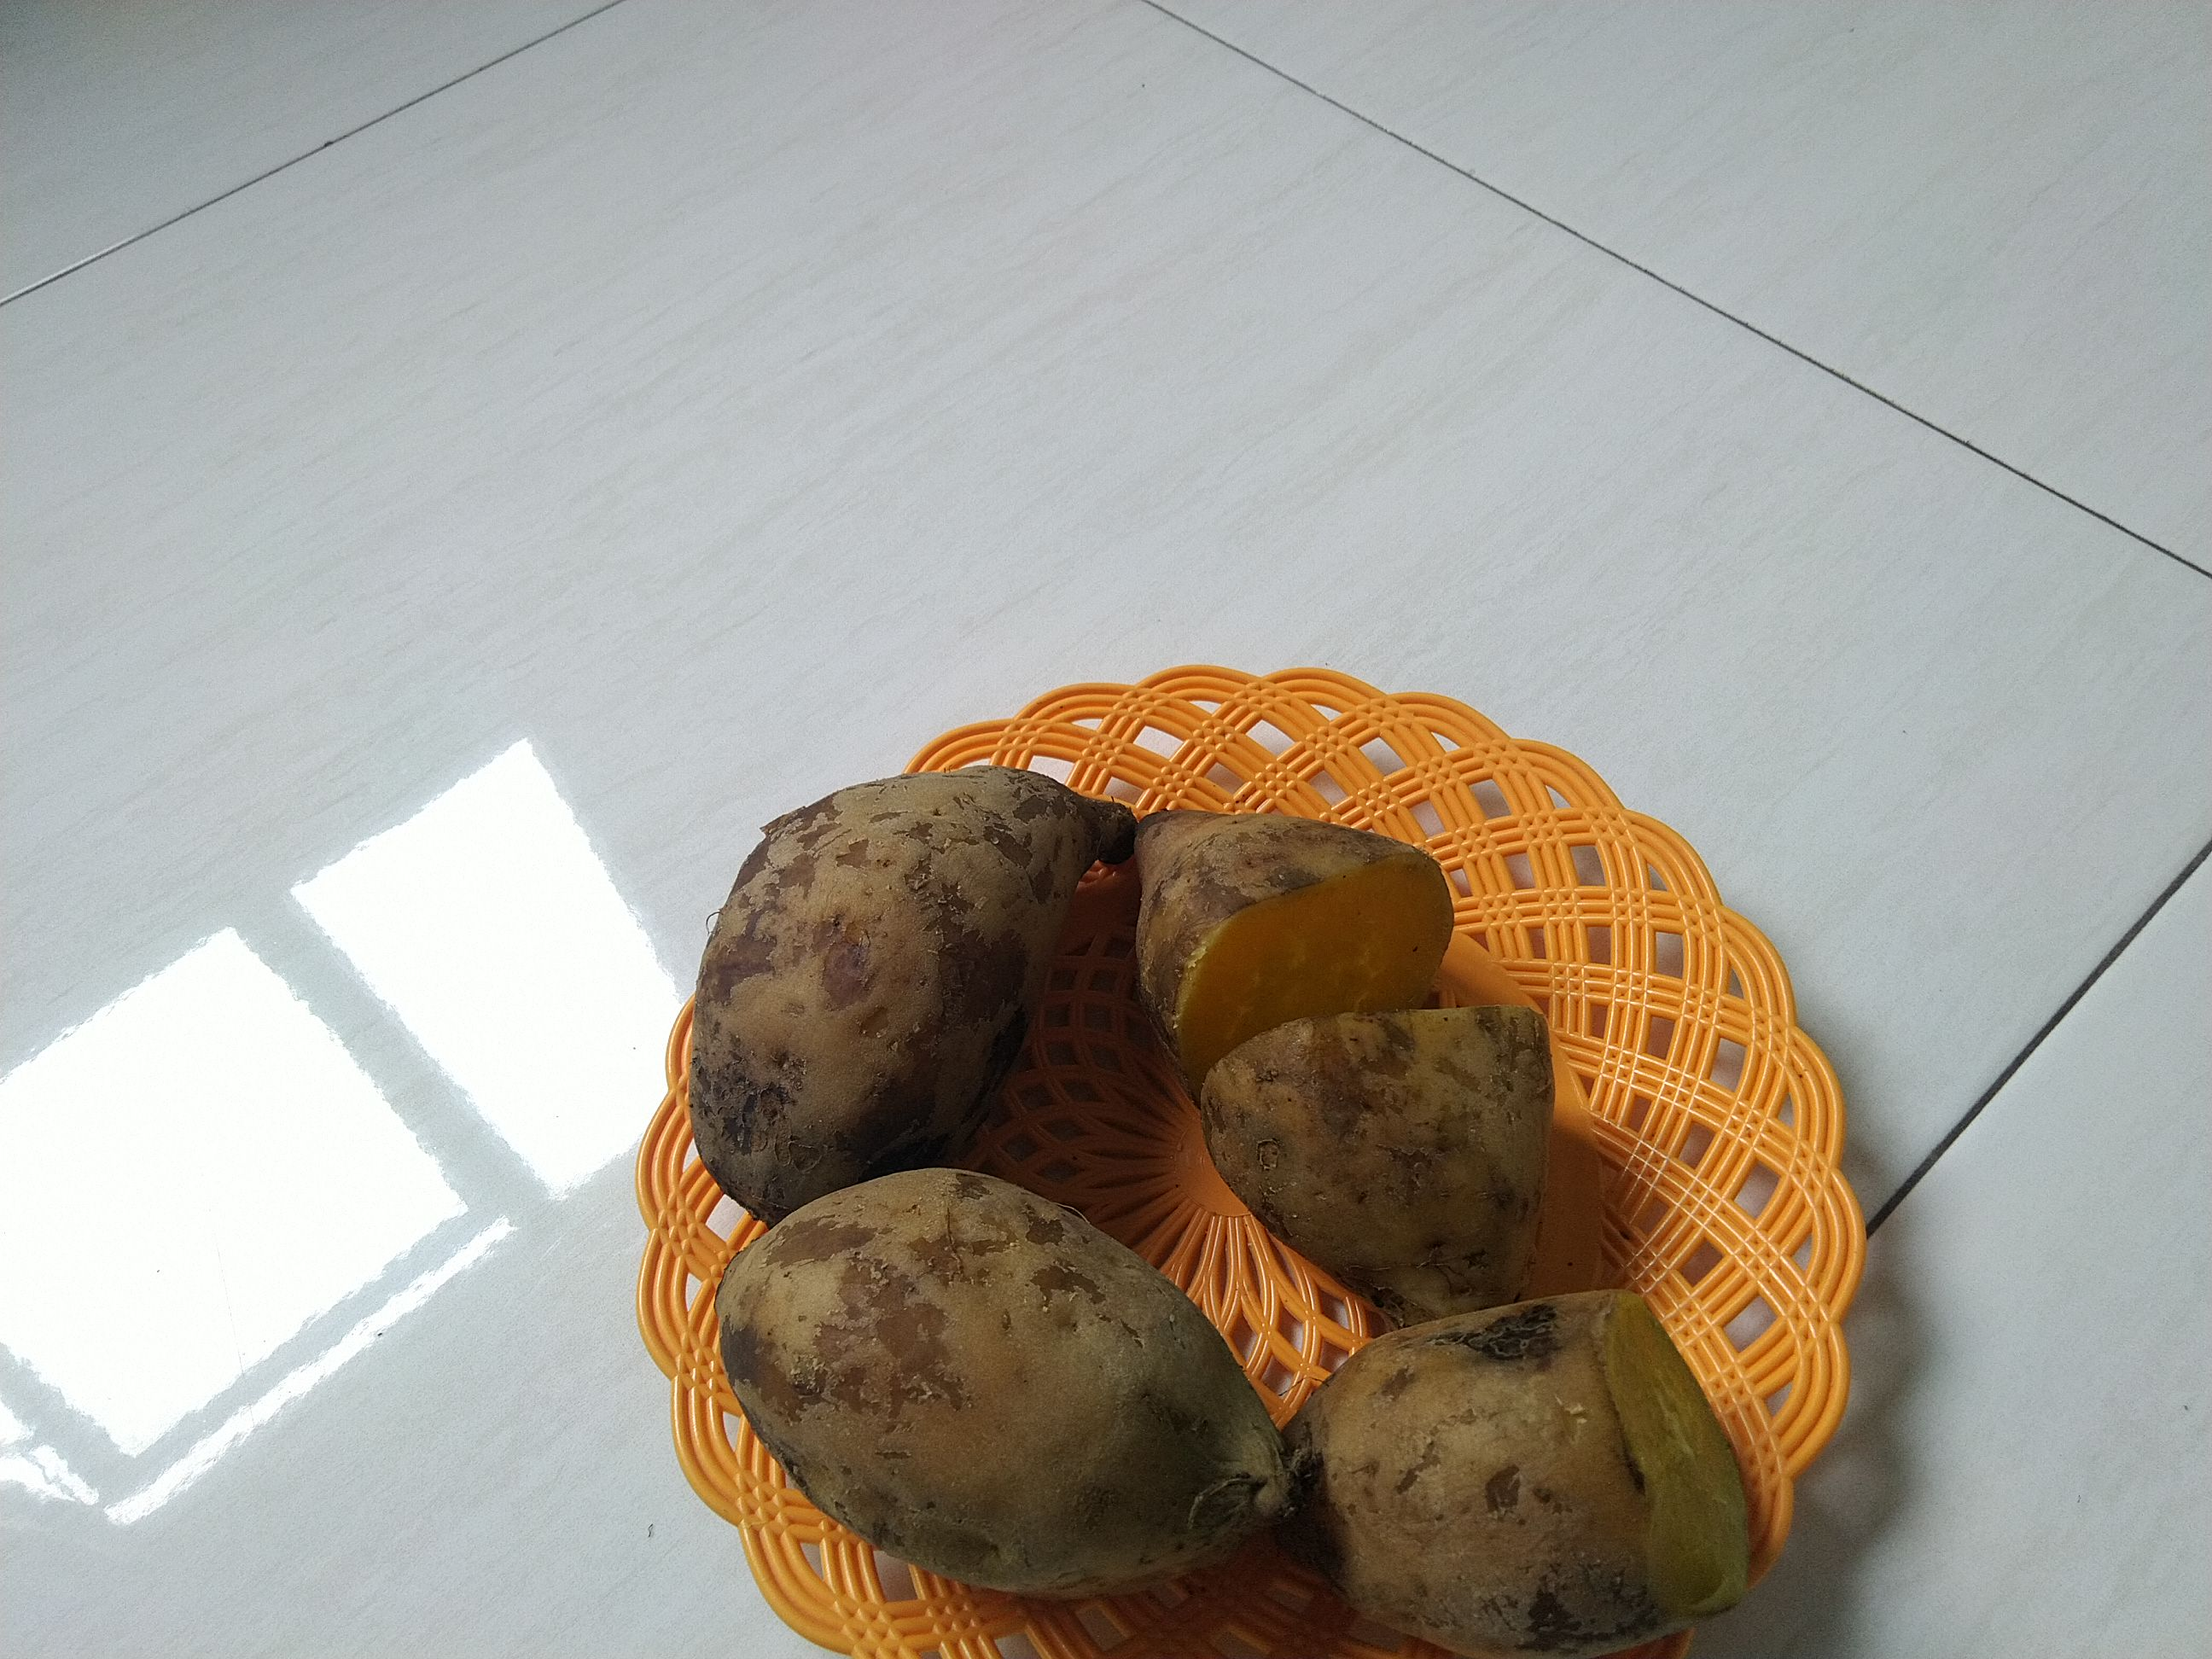ubi kuning: (644, 744, 1801, 1659), (709, 1157, 1325, 1601), (676, 762, 1130, 1225), (1268, 1276, 1752, 1628), (1190, 993, 1590, 1317), (1111, 789, 1496, 1061)
